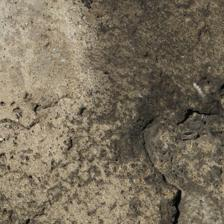Crack: (69, 54, 152, 167)
